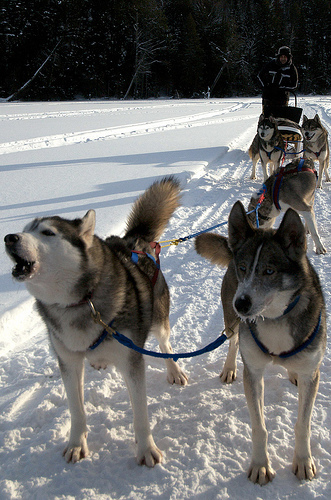dog: (5, 173, 183, 468), (194, 200, 328, 483), (248, 161, 325, 257), (246, 112, 288, 183), (299, 112, 328, 188)
